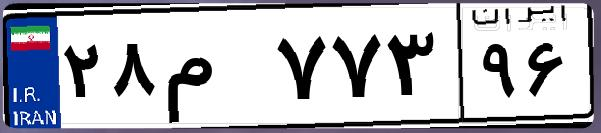2: (57, 26, 110, 100)
3: (385, 28, 445, 110)
6: (525, 38, 570, 115)
7: (270, 28, 330, 110), (330, 28, 385, 110)
8: (110, 28, 158, 98)
9: (475, 38, 525, 113)
م: (158, 20, 270, 120)
